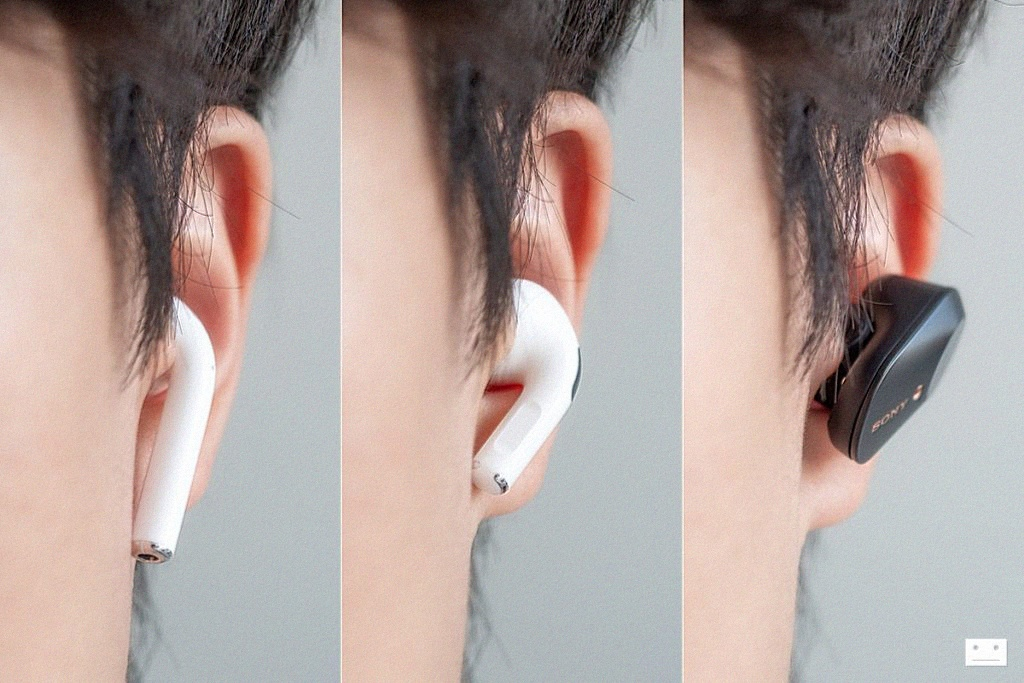earphone: (804, 111, 969, 528), (133, 105, 273, 560), (473, 91, 614, 520)
